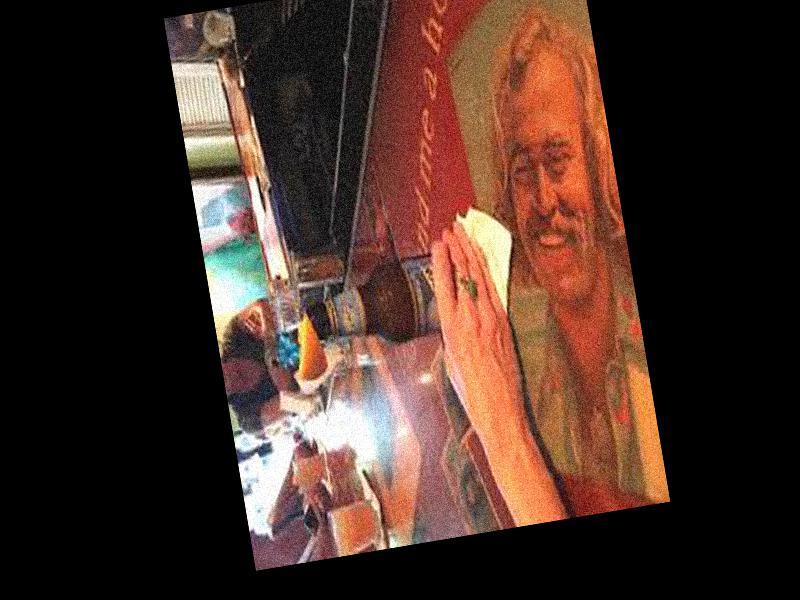Beer: (295, 241, 496, 353)
